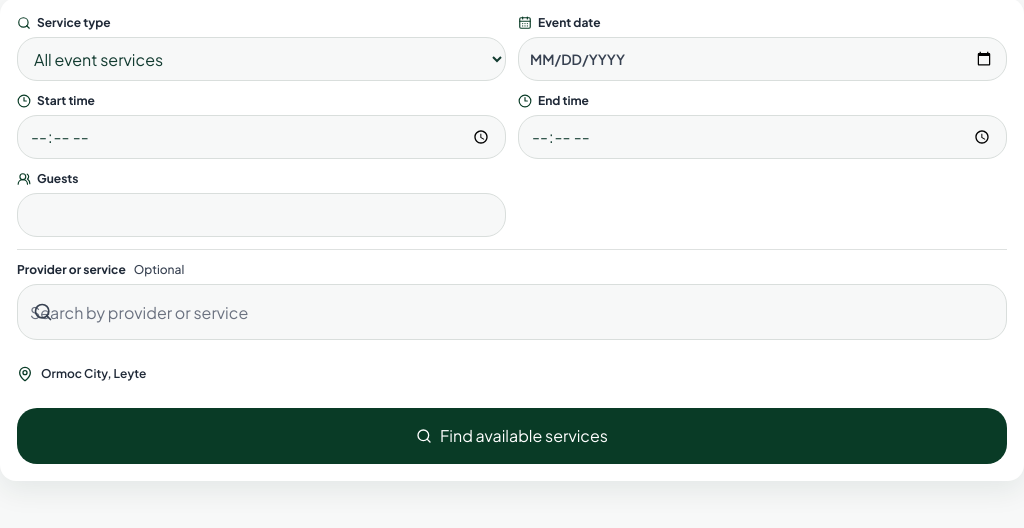
Test case: customer home event planning › blocks a non-positive guest count
This screenshot has width=1024, height=528.
Select "Catering" in the dropdown labelled "Service type" at (262, 59), box [17,37,506,81]
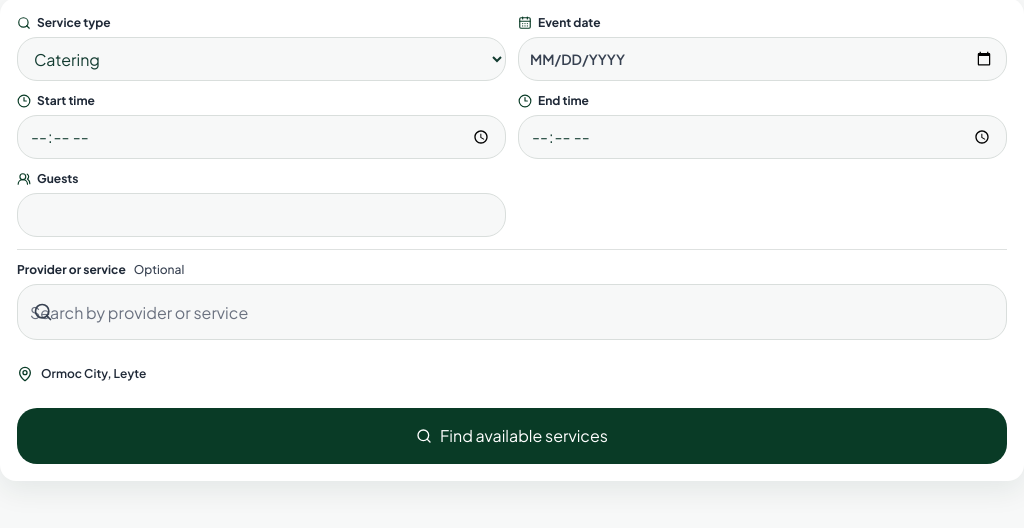
Type "2026-09-10" into the date field labelled "Event date" at (762, 59), box [518,37,1007,81]
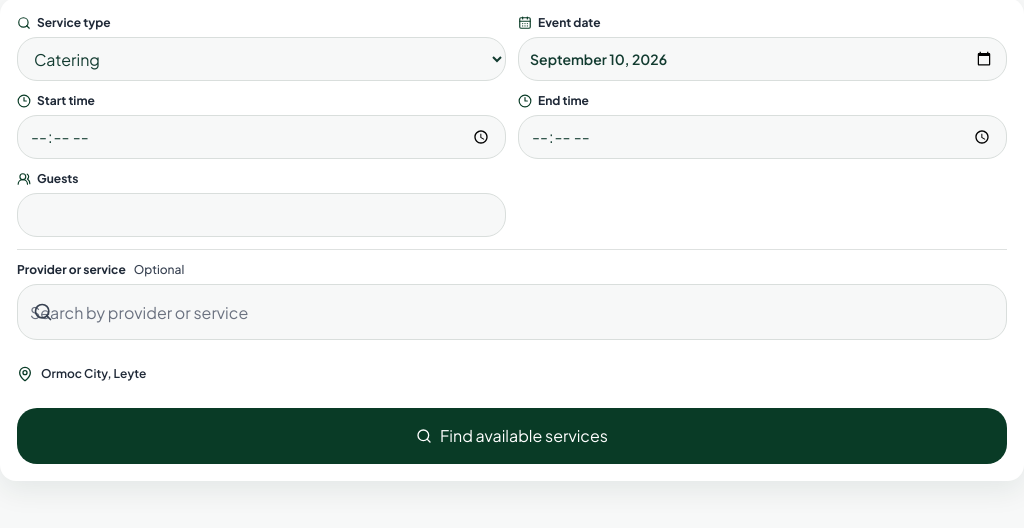
Type "18:00" into the time field labelled "Start time" at (262, 137), box [17,115,506,159]
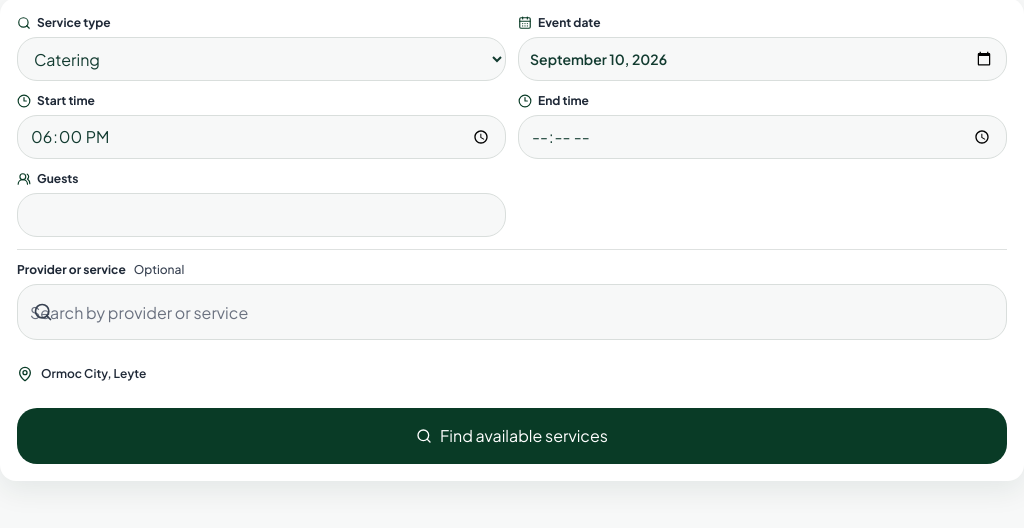
Type "22:00" into the time field labelled "End time" at (762, 137), box [518,115,1007,159]
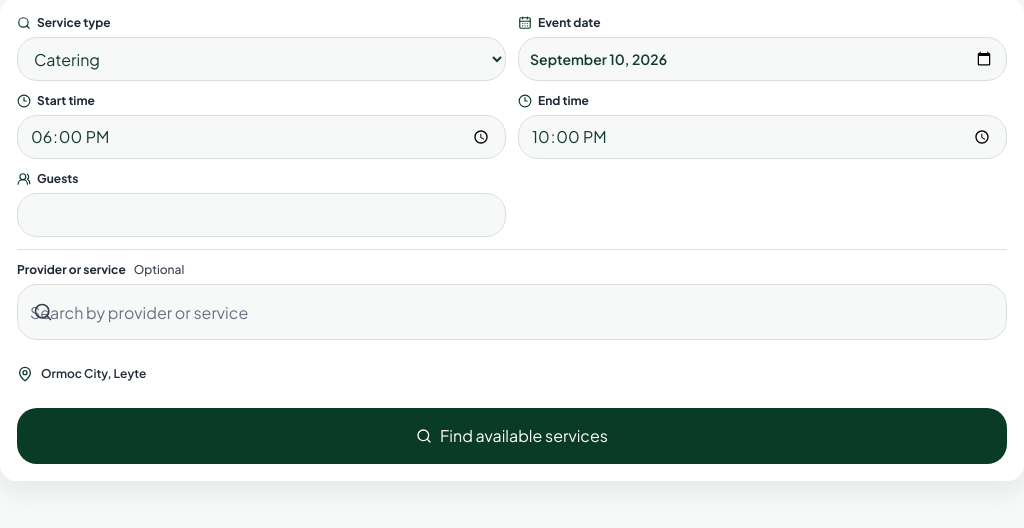
Type "0" into the number field labelled "Guests" at (262, 215), box [17,193,506,237]
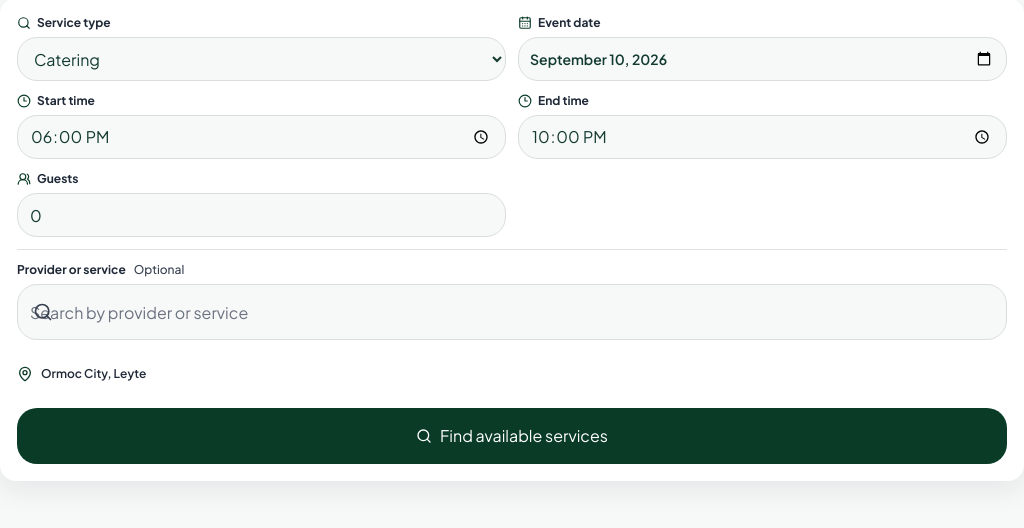
Click the button "Find available services" at (512, 436), box [17,408,1007,464]
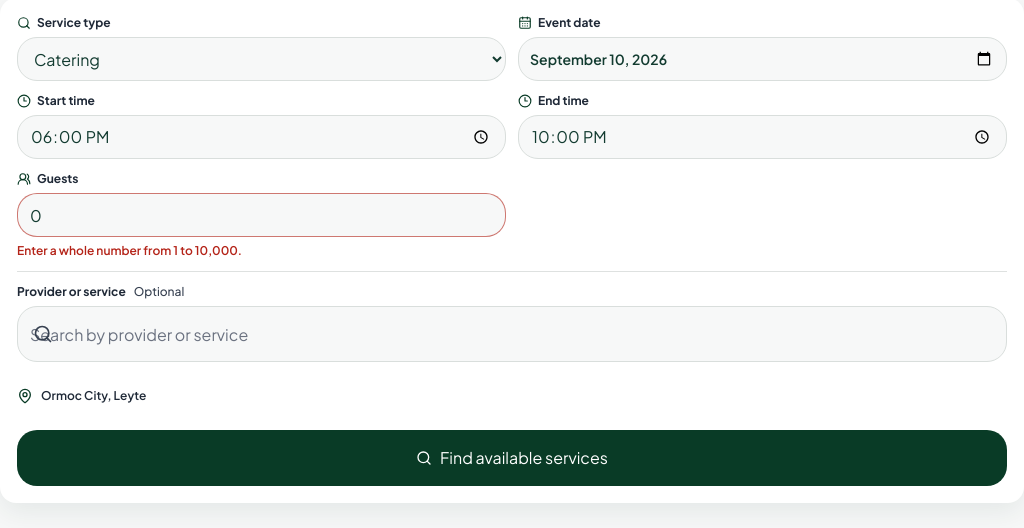
Expected: the text "Enter a whole number from 1 to 10,000." is shown, [17,243,242,258]
